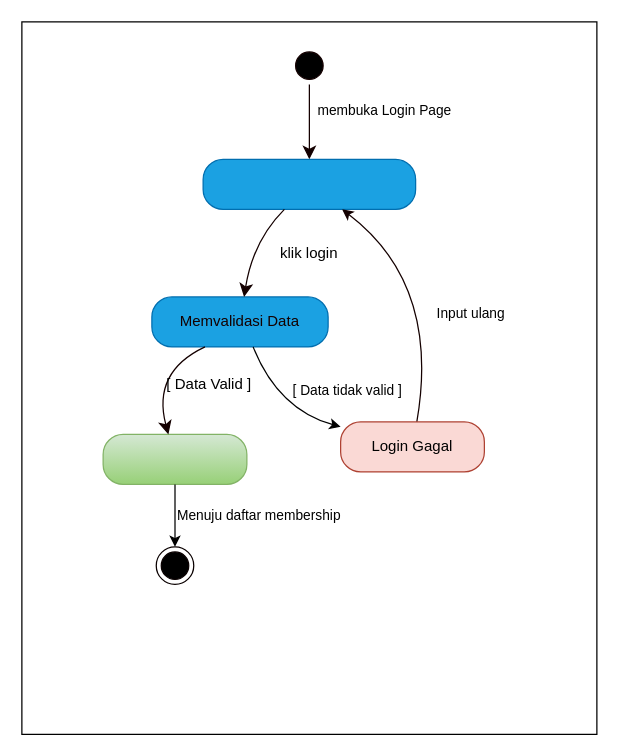
Some shapes in this 619 by 756 pixel diagram are drawn without their labels. Here are the shapes that lost their labels. From the top down, the centre of each, then its label:
point 309,183: Belum Login
point 174,458: Login Berhasil
